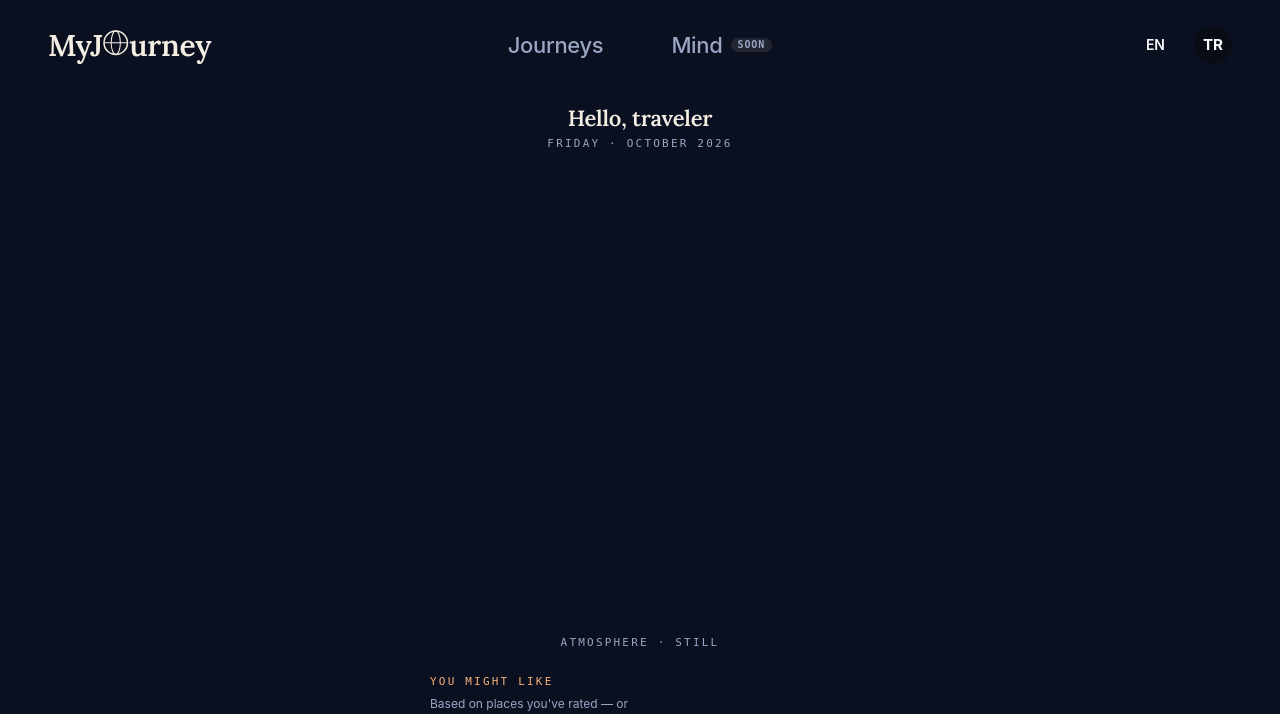
Test: HomePage › верифицированный email: нет баннера и нет пункта Verify email
Click the button with aria-label "Open profile menu" at (1213, 45), box top-left (1194, 26), bottom-right (1232, 64)
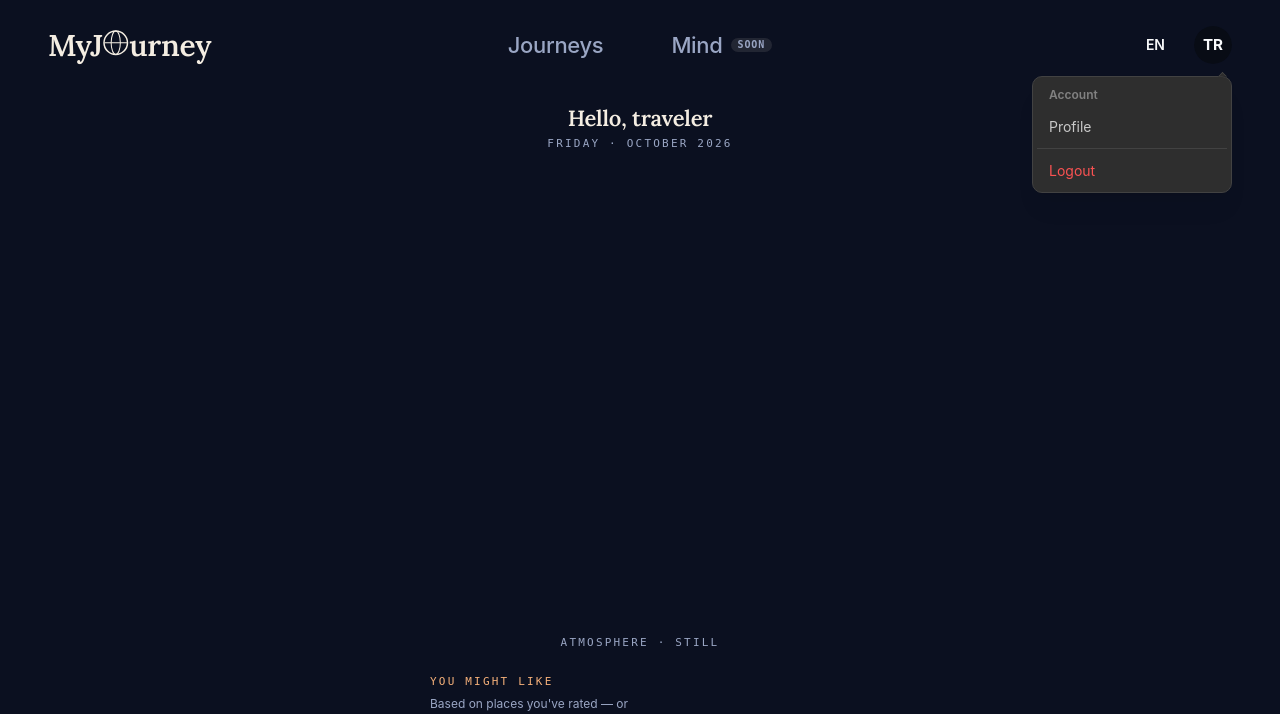
Result: the text "Logout" is shown at top-left (1049, 162), bottom-right (1095, 179)
